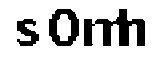0: (46, 6, 80, 48)
h: (117, 3, 150, 49)
m: (82, 17, 123, 50)
s: (12, 16, 39, 50)
